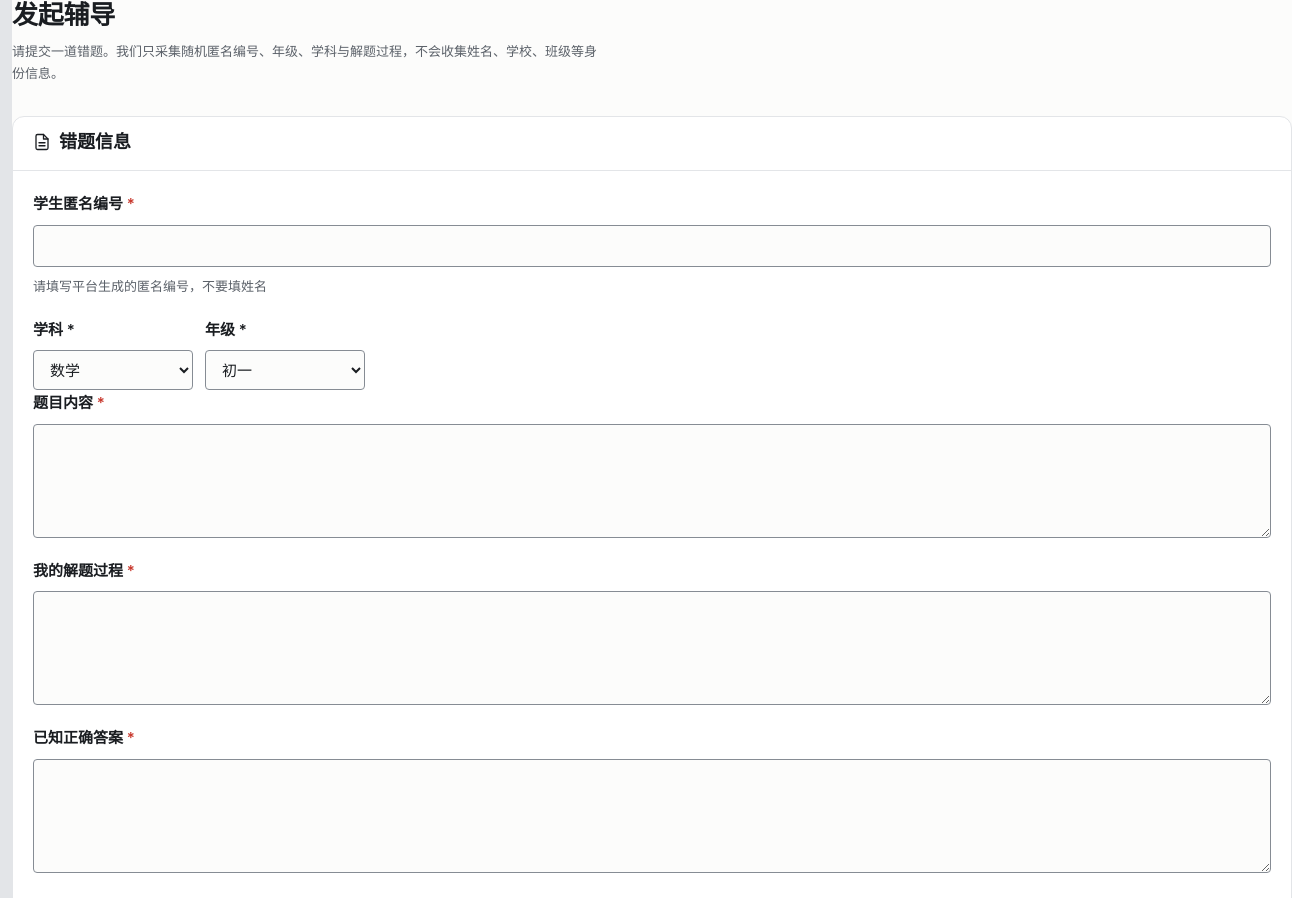
Scenario: 发起辅导页 › ⛔ 敏感信息阻断 › 输入手机号后应显示违规提示且不发请求
Type "stu_a1b2c3d4e5f6a7b8" into the field labelled "学生匿名编号 *" at [652, 246], box [33, 225, 1271, 267]
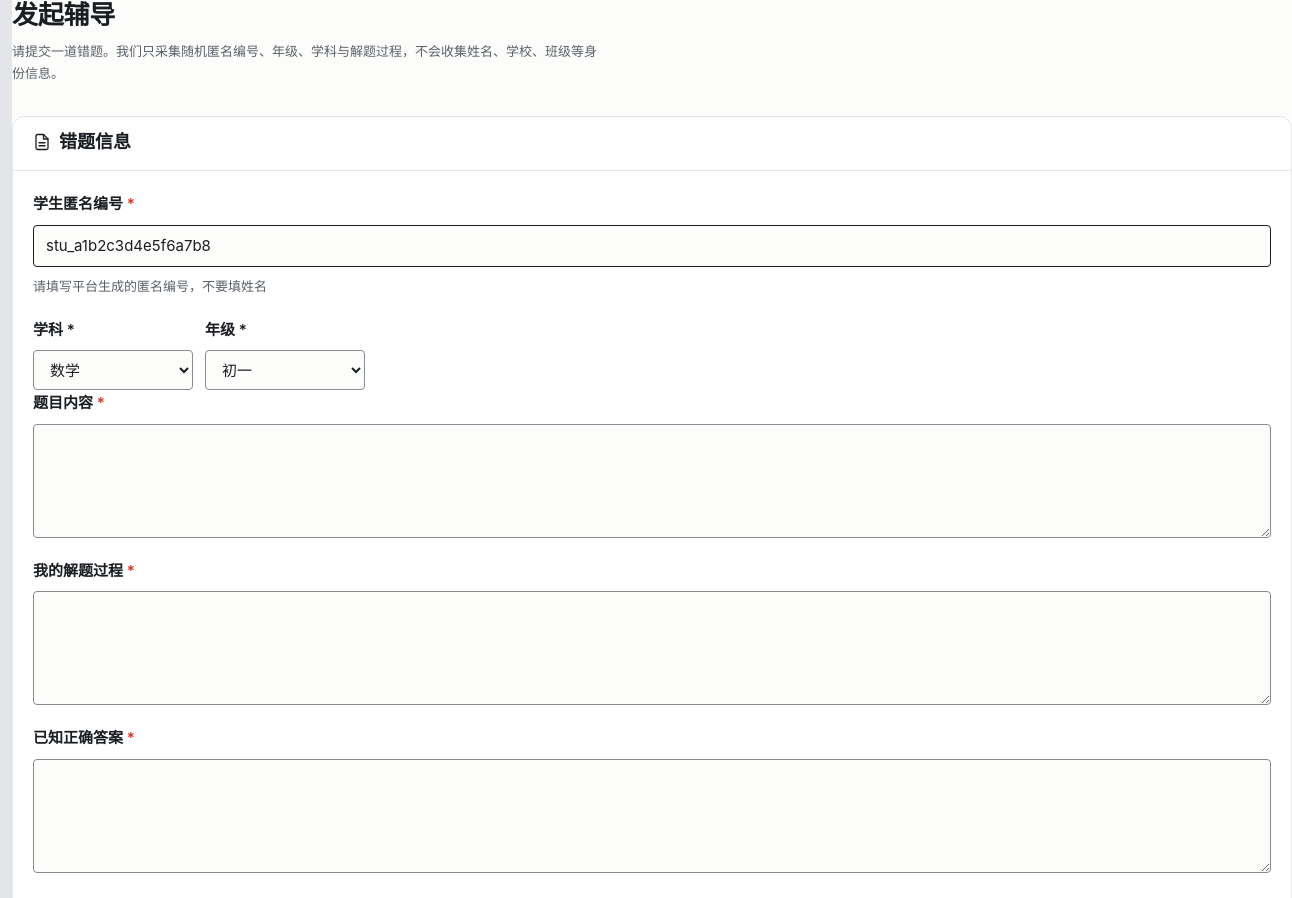
Type "题目" into the text box labelled "题目内容 *" at [652, 481], box [33, 424, 1271, 538]
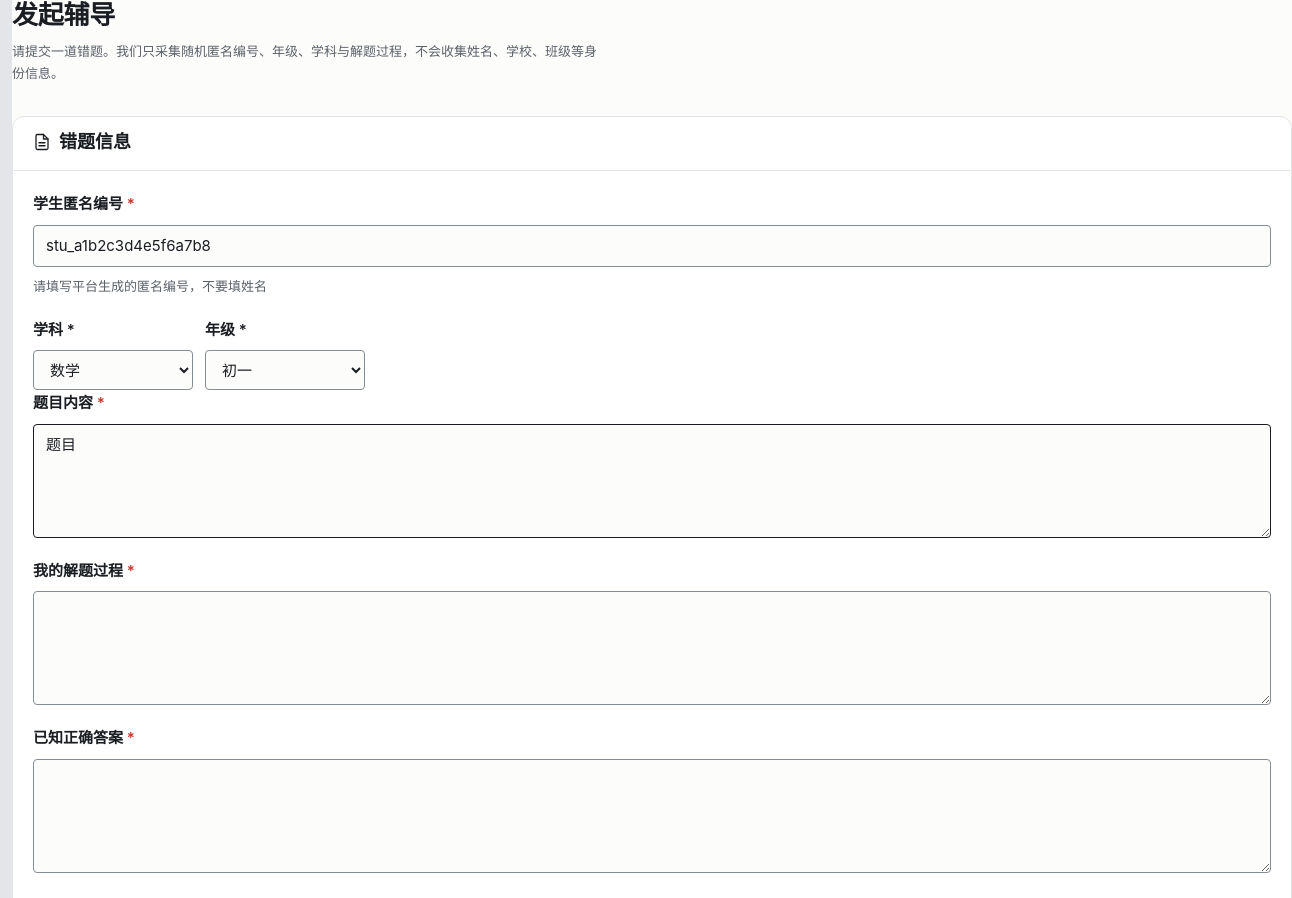
Type "我的电话 13812345678" into the text box labelled "我的解题过程 *" at [652, 648], box [33, 591, 1271, 705]
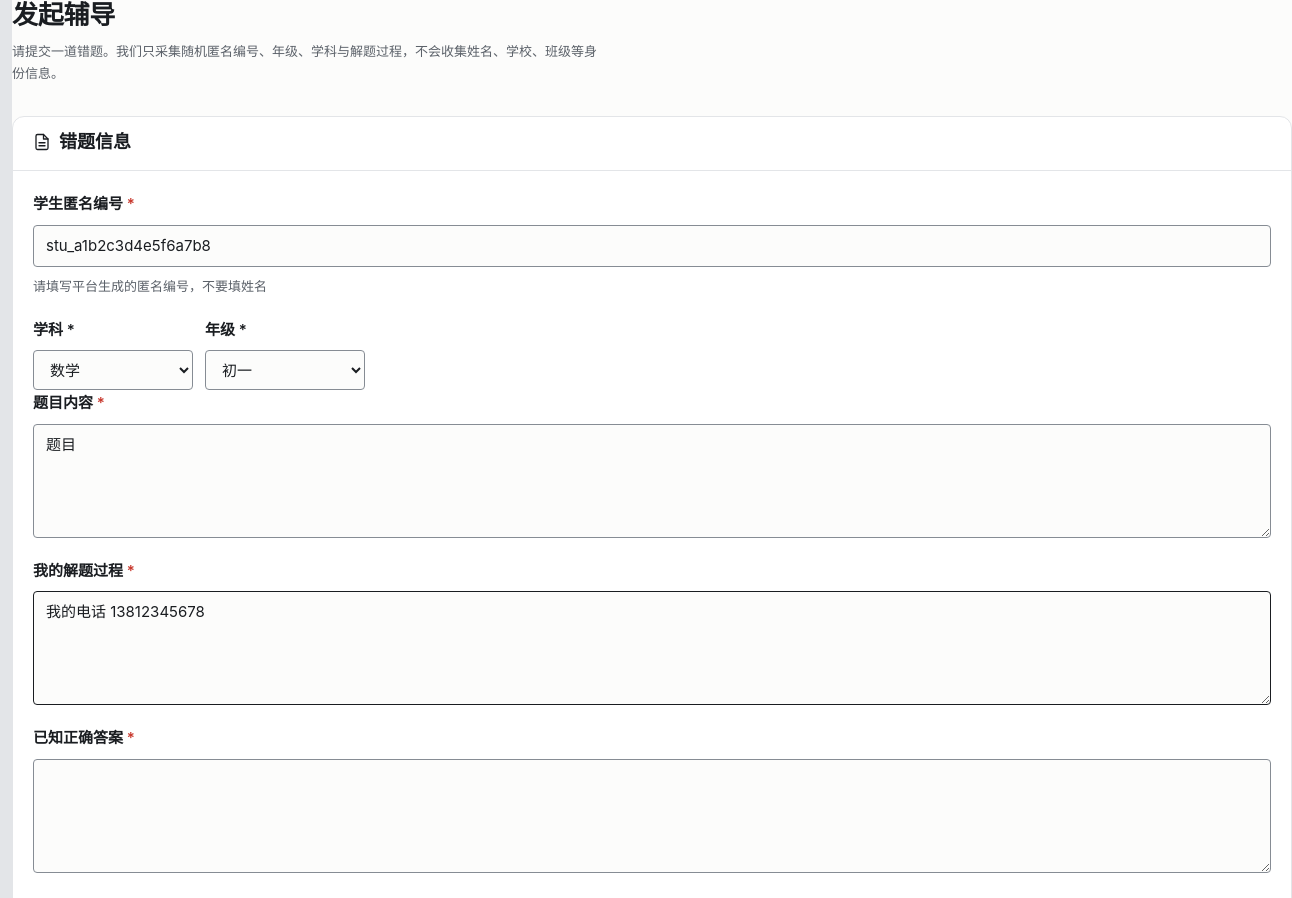
Type "15" into the text box labelled "已知正确答案 *" at [652, 816], box [33, 759, 1271, 873]
(page scrolled)
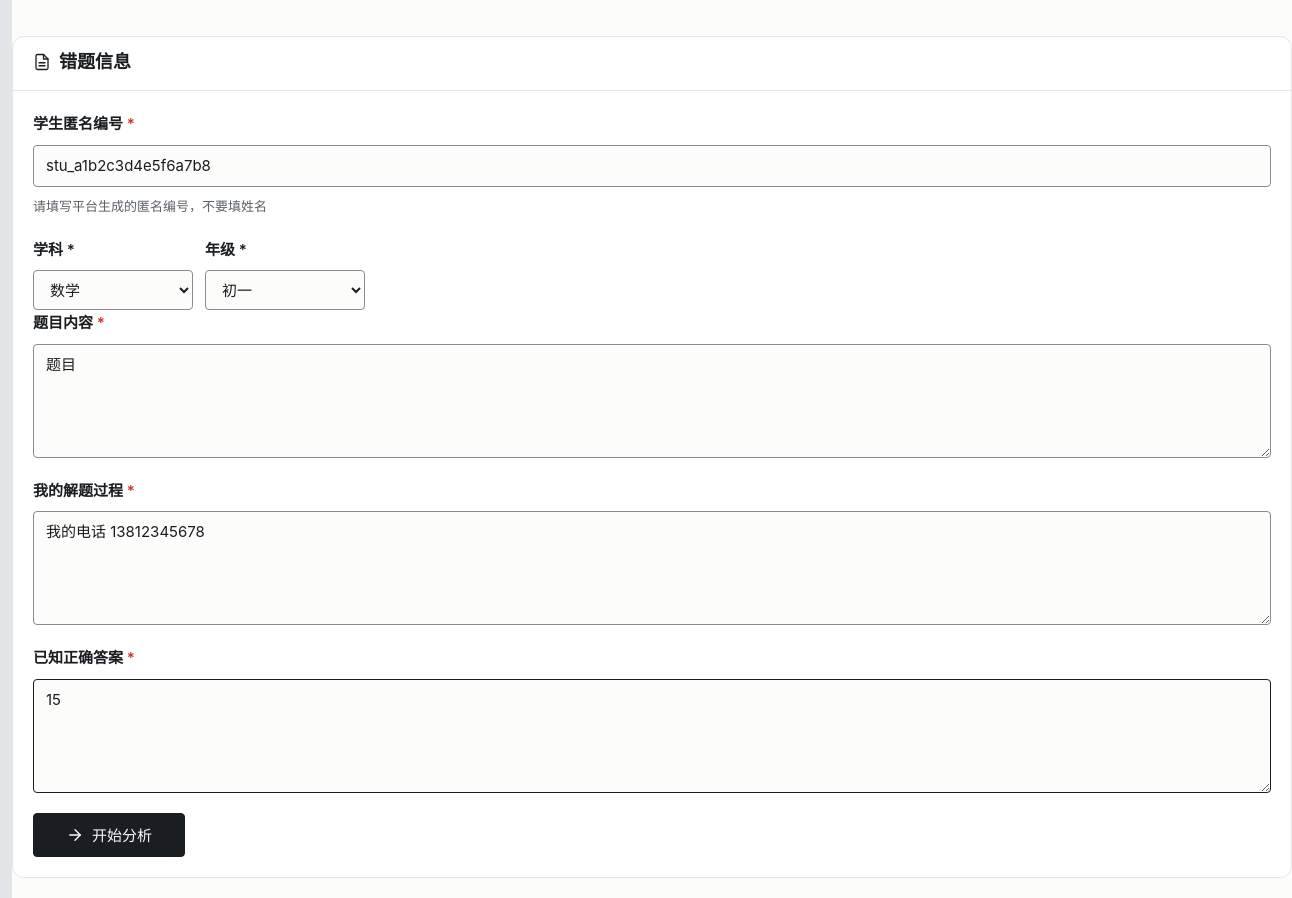
Click the button "开始分析" at [109, 835], box [33, 813, 185, 857]
(page scrolled)
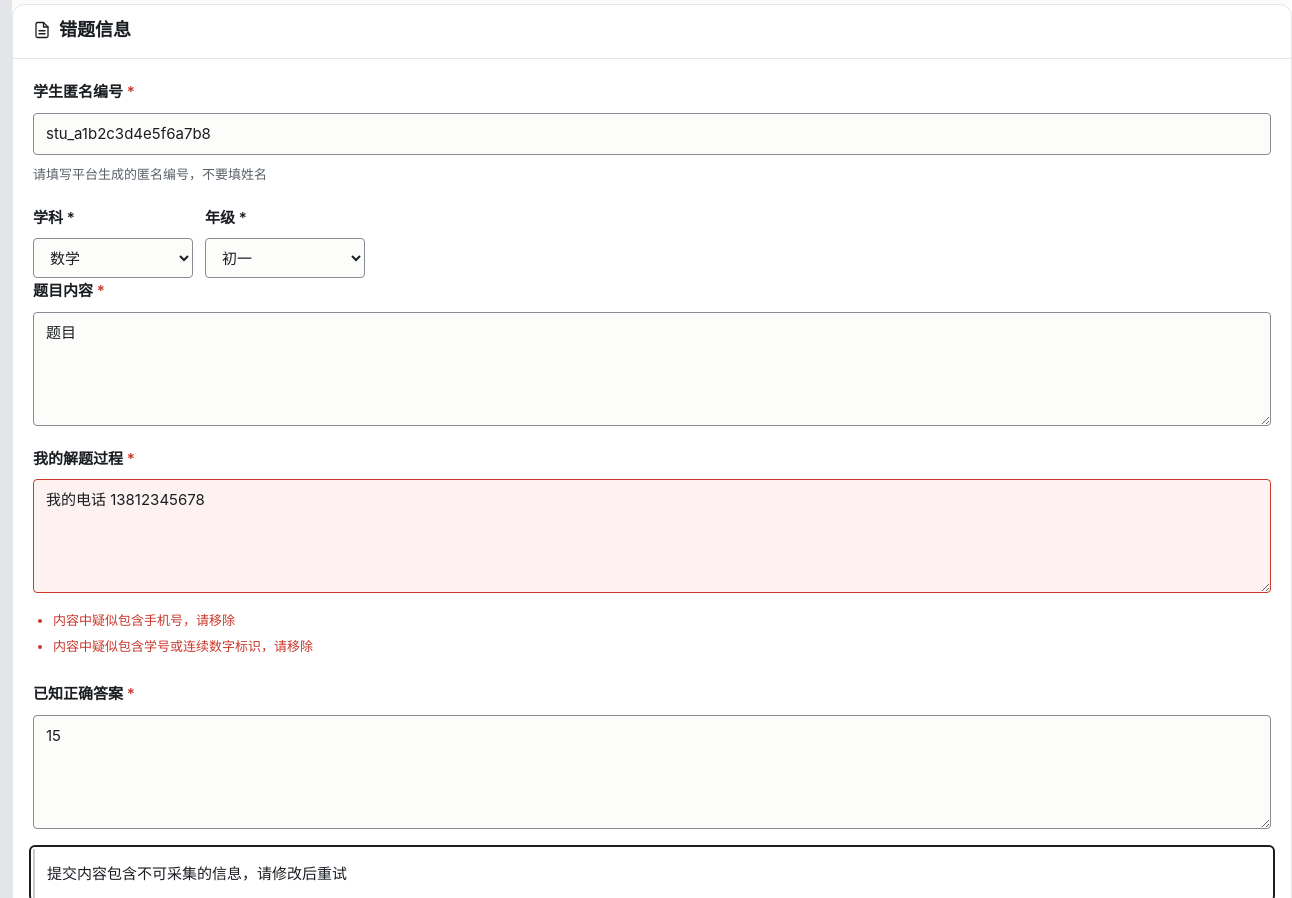
Result: the message "内容中疑似包含手机号，请移除 内容中疑似包含学号或连续数字标识，请移除" is shown at [53, 612, 313, 654]
Result: the list item "内容中疑似包含手机号，请移除" is shown at [53, 612, 235, 628]
